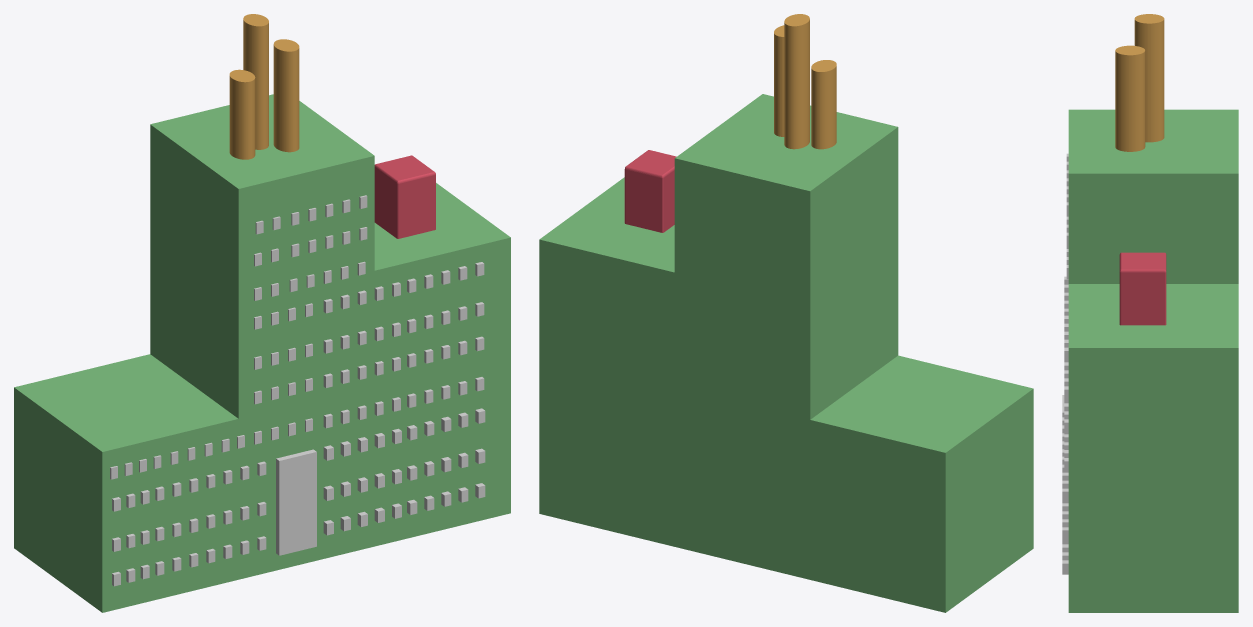
Rendered from task.glb.
3 renders of one model, left to right at view 1: azimuth 30°, elevation 25°; view 2: azimuth 150°, elevation 25°; view 3: azimuth 270°, elevation 25°, orthographic. The views are drawn at different scales.
Parts seen in each view (by area): view 1: Mesh_Mesh_head_geo.001_lambert2SG.001; view 2: Mesh_Mesh_head_geo.001_lambert2SG.001; view 3: Mesh_Mesh_head_geo.001_lambert2SG.001.
Part boxes in pixels (x1,y1,x2,y2): Mesh_Mesh_head_geo.001_lambert2SG.001: [14, 14, 510, 612]; Mesh_Mesh_head_geo.001_lambert2SG.001: [539, 14, 1033, 612]; Mesh_Mesh_head_geo.001_lambert2SG.001: [1062, 14, 1238, 612].
Size of the model in its own units: 13.3 by 16 by 5.17.
